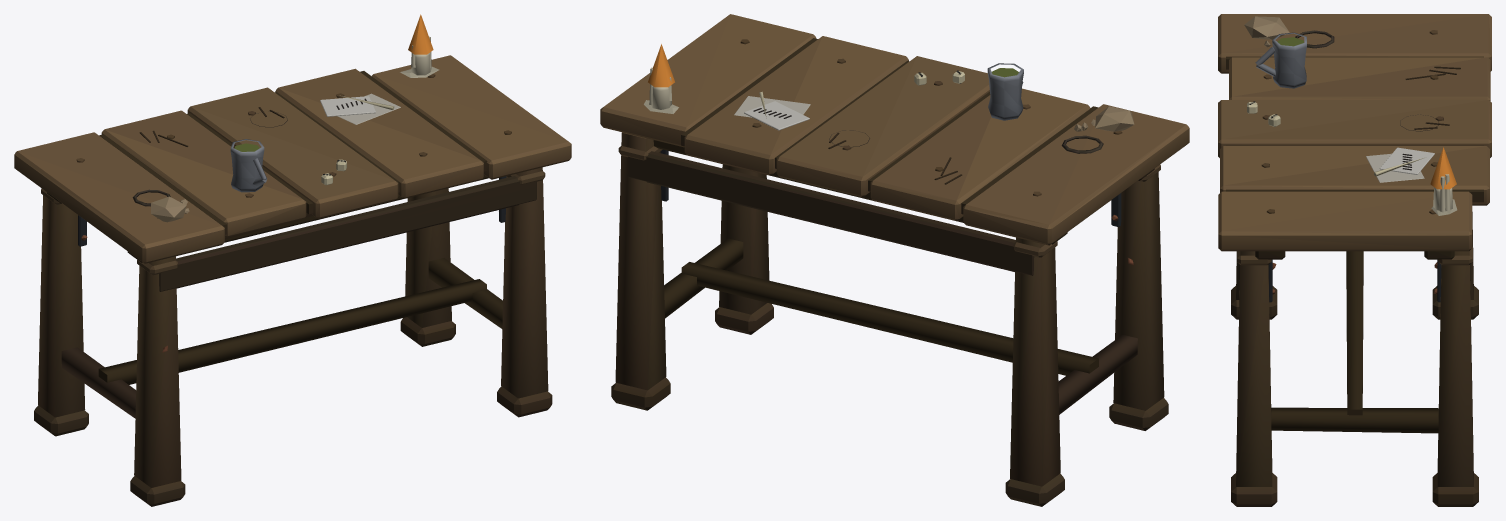
File: dun-jailer-table.glb
The picture shows the model from 3 angles, left to right: view 1: azimuth 30°, elevation 25°; view 2: azimuth 150°, elevation 25°; view 3: azimuth 270°, elevation 25°; orthographic projection. The views are drawn at different scales.
Visible parts, largest first — view 1: dun_jailer_table; view 2: dun_jailer_table; view 3: dun_jailer_table.
Boxes of the visible parts, bbox=[...] form: dun_jailer_table: bbox=[14, 14, 571, 506]; dun_jailer_table: bbox=[600, 14, 1189, 506]; dun_jailer_table: bbox=[1218, 14, 1491, 506].
Size of the model in its own units: 1.29 by 0.9478 by 0.68.
